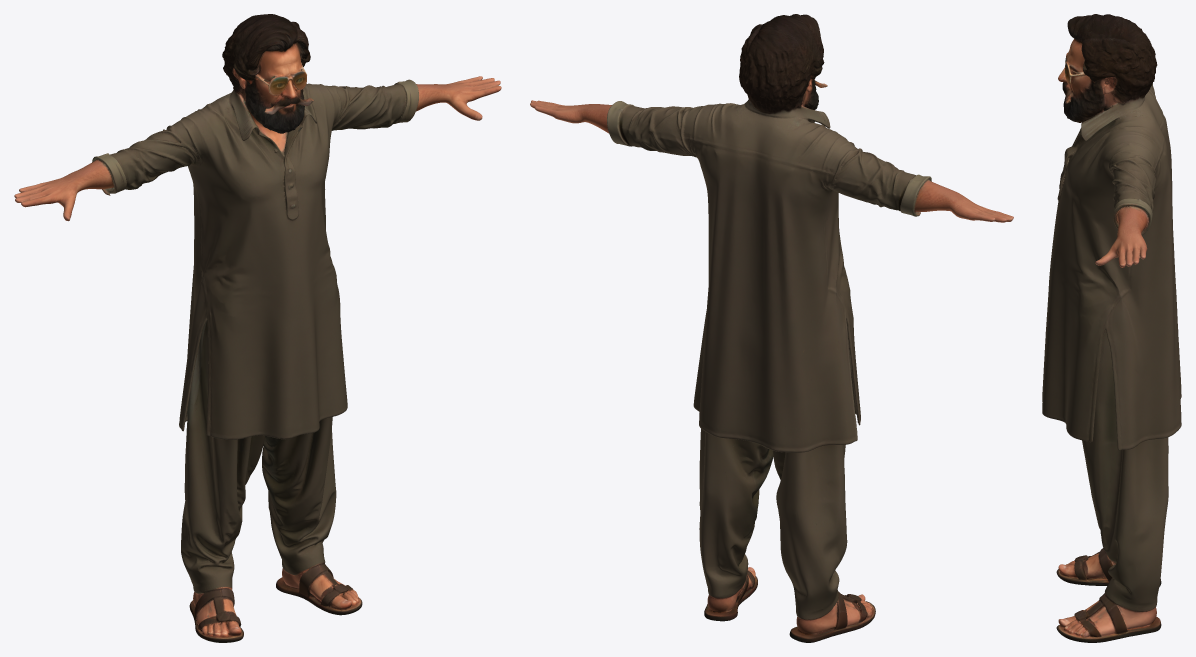
File: iqbalbeforesickle.glb
3 renders of one model, left to right at view 1: azimuth 30°, elevation 25°; view 2: azimuth 150°, elevation 25°; view 3: azimuth 270°, elevation 25°, orthographic.
Size of the model in its own units: 1.61 by 1.9 by 0.4063.
Materials: 1 (1 with a texture image).
